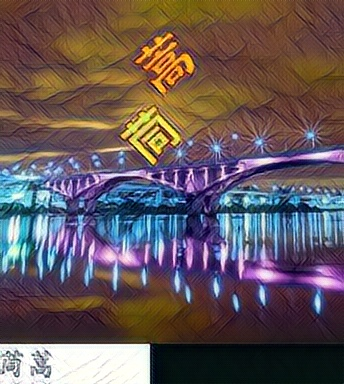DCED: (118, 102, 180, 166)
DDEF: (136, 32, 198, 96)
